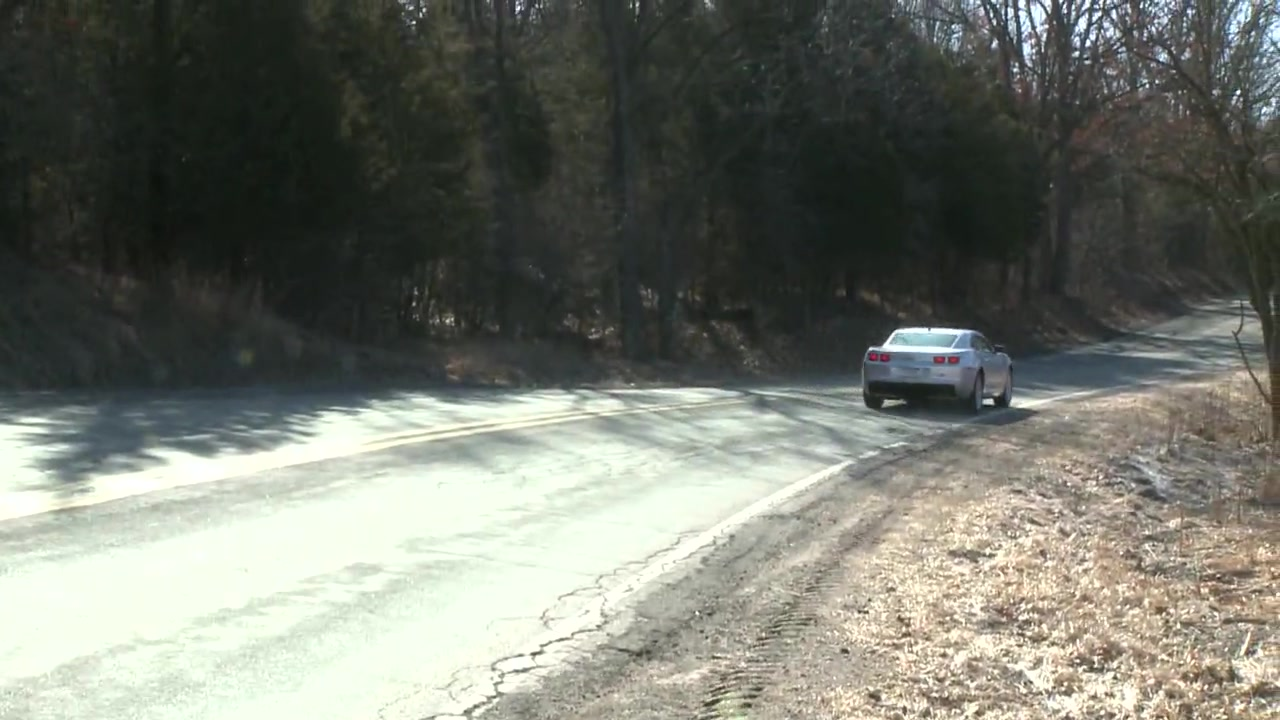car: (860, 322, 1020, 419)
